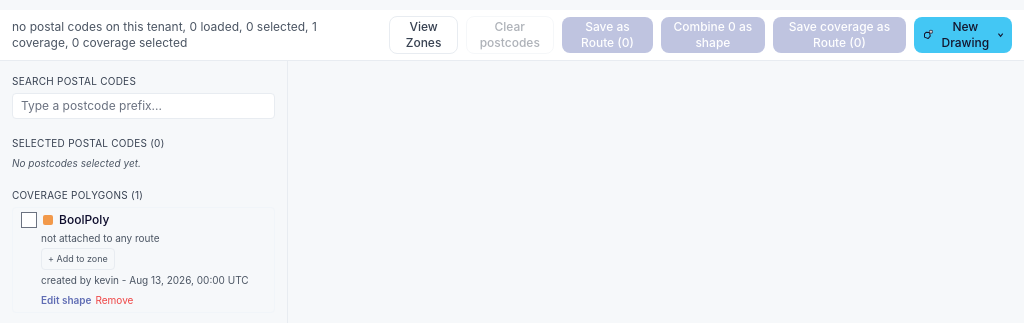
Test: PolygonBuilder - boolean ops (Add / Cut / Clip / Split) › Split with too-short line surfaces "Split line too short"
(page scrolled)
What coordinates should you click on to do the following:
click the button "Edit shape"
I would click on:
 (66, 300)
Its box is [41, 292, 92, 308].
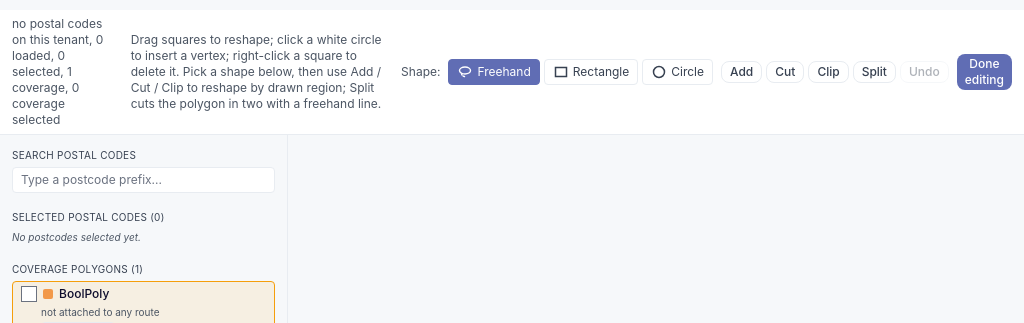
What coordinates should you click on to do the following:
click the button "Split"
I would click on:
 (874, 72)
Its box is [853, 61, 896, 83].
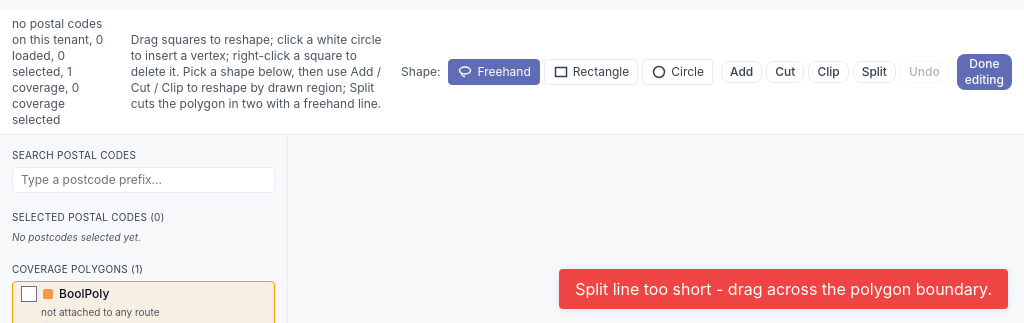
Expected: the text "Split line too short" is shown, [575, 279, 992, 299]
